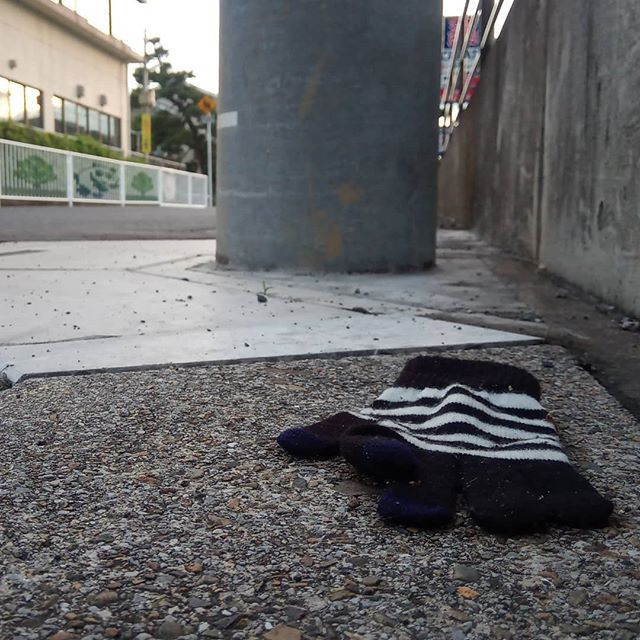building: (1, 1, 174, 203)
collumn: (202, 1, 460, 288)
glove: (300, 328, 615, 554)
